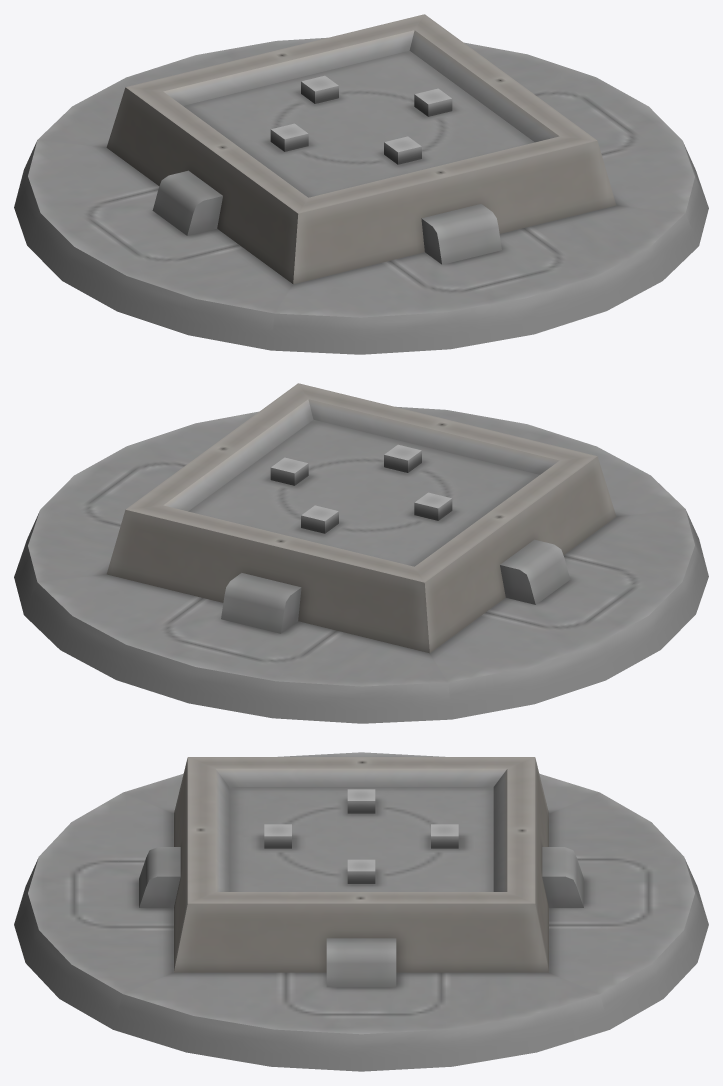
Rendered from Rana_Port_2.obj.
3 views of the same model, one above another, from view 1: azimuth 30°, elevation 25°; view 2: azimuth 150°, elevation 25°; view 3: azimuth 270°, elevation 25° (orthographic).
Parts seen in each view (by area): view 1: Rana_Port_2; view 2: Rana_Port_2; view 3: Rana_Port_2.
Boxes of the visible parts, <box> form: Rana_Port_2: <box>14,14,708,354</box>; Rana_Port_2: <box>14,383,708,723</box>; Rana_Port_2: <box>14,752,708,1071</box>.
Bounding box in the file's own units: 0.625 × 0.0938 × 0.625.
